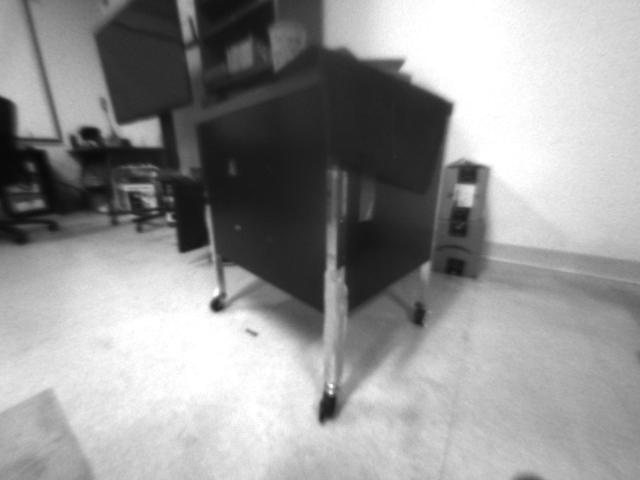coffee_cup: (263, 22, 306, 79)
